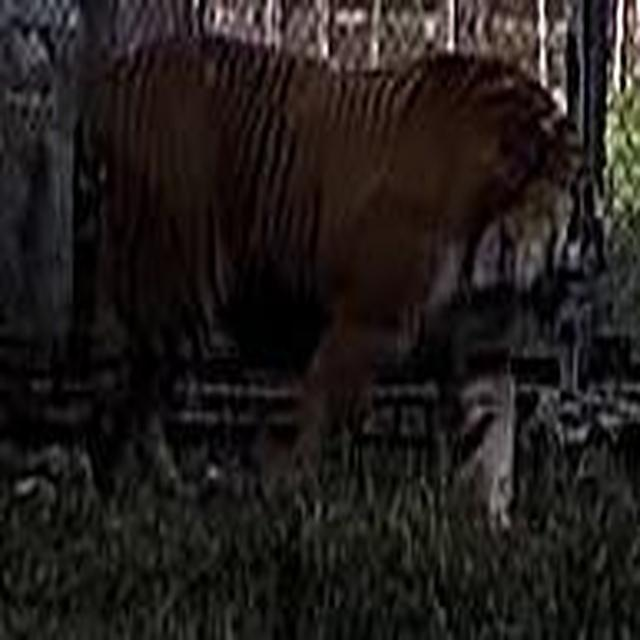tiger: (70, 32, 598, 537)
